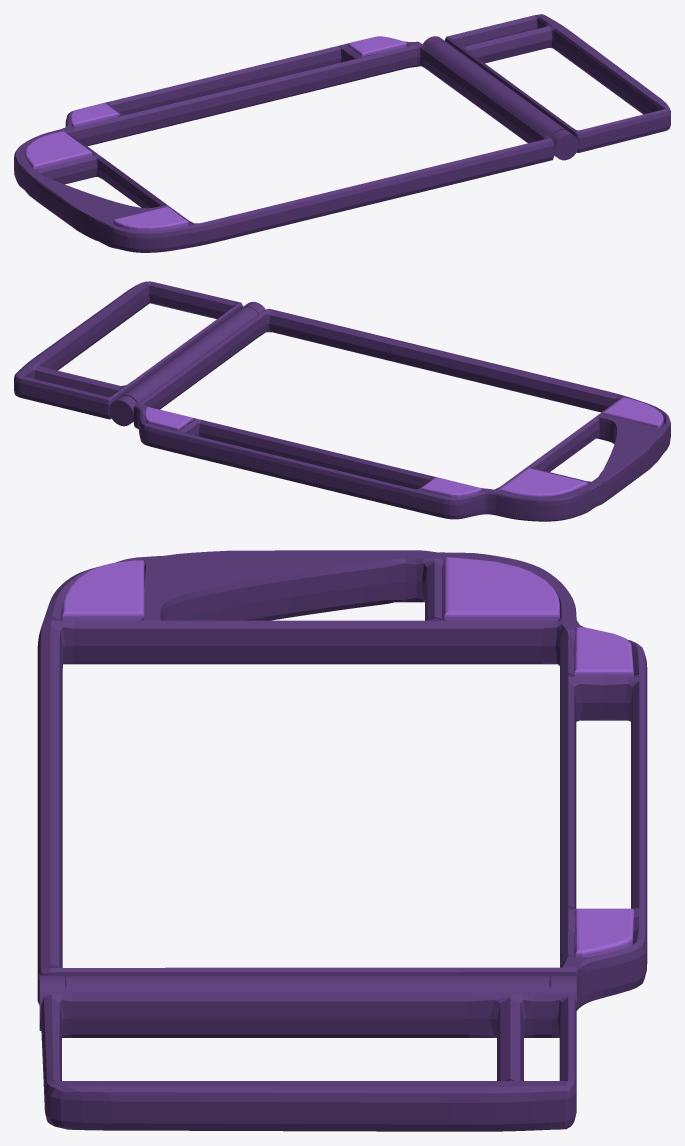
The model's file is Tablet_Model_3.fbx.
The picture shows the model from 3 angles, top to bottom: view 1: azimuth 30°, elevation 25°; view 2: azimuth 150°, elevation 25°; view 3: azimuth 270°, elevation 25°; orthographic projection. The views are drawn at different scales.
Parts seen in each view (by area): view 1: TabletBody, TabletSide, Pillar, Button_ST, Button_SB, Button_TR, Button_TL; view 2: TabletBody, TabletSide, Pillar, Button_ST, Button_SB, Button_TL, Button_TR; view 3: TabletBody, TabletSide, Pillar, Button_ST, Button_SB, Button_TR, Button_TL.
Boxes of the visible parts, x1,y1,x2,y2 form: TabletBody: (14, 41, 554, 252); TabletSide: (444, 14, 670, 152); Pillar: (423, 36, 578, 160); Button_ST: (25, 131, 92, 169); Button_SB: (113, 206, 188, 230); Button_TR: (347, 36, 406, 56); Button_TL: (70, 102, 119, 127); TabletBody: (133, 308, 670, 521); TabletSide: (14, 281, 242, 419); Pillar: (109, 301, 265, 426); Button_ST: (499, 468, 587, 496); Button_SB: (603, 397, 663, 428); Button_TL: (421, 477, 481, 497); Button_TR: (145, 407, 192, 430); TabletBody: (37, 550, 647, 1010); TabletSide: (41, 994, 576, 1131); Pillar: (39, 974, 576, 1030); Button_ST: (444, 557, 559, 620); Button_SB: (62, 560, 144, 620); Button_TR: (574, 908, 634, 957); Button_TL: (574, 627, 633, 676).
Size of the model in its own units: 955 by 43.53 by 453.
